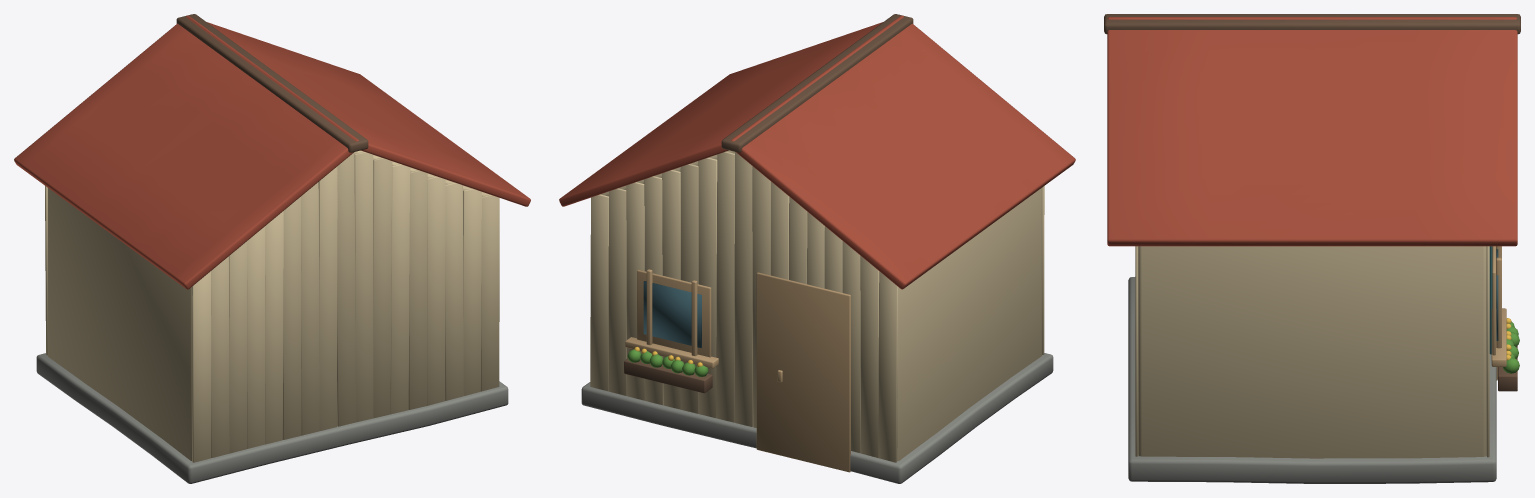
File: boat_hut.glb
3 views of the same model, side by side, from view 1: azimuth 30°, elevation 25°; view 2: azimuth 150°, elevation 25°; view 3: azimuth 270°, elevation 25° (orthographic). The views are drawn at different scales.
Visible parts, largest first — view 1: Boat_Hut_Boards, Boat_Hut_Roof, Boat_Hut_Walls, Boat_Hut_Plinth, Boat_Hut_Ridge; view 2: Boat_Hut_Roof, Boat_Hut_Boards, Boat_Hut_Walls, Boat_Hut_Frames, Boat_Hut_Plinth, Boat_Hut_Ridge, Boat_Hut_Window, Boat_Hut_FlowerBox, Boat_Hut_Plants; view 3: Boat_Hut_Roof, Boat_Hut_Walls, Boat_Hut_Plinth, Boat_Hut_Ridge, Boat_Hut_Boards, Boat_Hut_Frames, Boat_Hut_Plants.
Boxes of the visible parts, left/top/right/bottom form: Boat_Hut_Boards: left=45, top=151, right=499, bottom=462; Boat_Hut_Roof: left=14, top=15, right=530, bottom=289; Boat_Hut_Walls: left=48, top=150, right=489, bottom=460; Boat_Hut_Plinth: left=36, top=353, right=508, bottom=483; Boat_Hut_Ridge: left=176, top=14, right=368, bottom=152; Boat_Hut_Roof: left=559, top=15, right=1075, bottom=289; Boat_Hut_Boards: left=590, top=151, right=1044, bottom=462; Boat_Hut_Walls: left=601, top=150, right=1041, bottom=461; Boat_Hut_Frames: left=625, top=269, right=850, bottom=472; Boat_Hut_Plinth: left=581, top=353, right=1053, bottom=483; Boat_Hut_Ridge: left=721, top=14, right=913, bottom=152; Boat_Hut_Window: left=643, top=281, right=701, bottom=347; Boat_Hut_FlowerBox: left=624, top=358, right=712, bottom=393; Boat_Hut_Plants: left=627, top=349, right=708, bottom=376; Boat_Hut_Roof: left=1107, top=17, right=1517, bottom=246; Boat_Hut_Walls: left=1138, top=246, right=1486, bottom=458; Boat_Hut_Plinth: left=1128, top=277, right=1496, bottom=483; Boat_Hut_Ridge: left=1104, top=14, right=1520, bottom=34; Boat_Hut_Boards: left=1135, top=246, right=1489, bottom=457; Boat_Hut_Frames: left=1491, top=246, right=1506, bottom=380; Boat_Hut_Plants: left=1503, top=322, right=1519, bottom=373.
Size of the model in its own units: 3.85 by 3.32 by 3.35.
